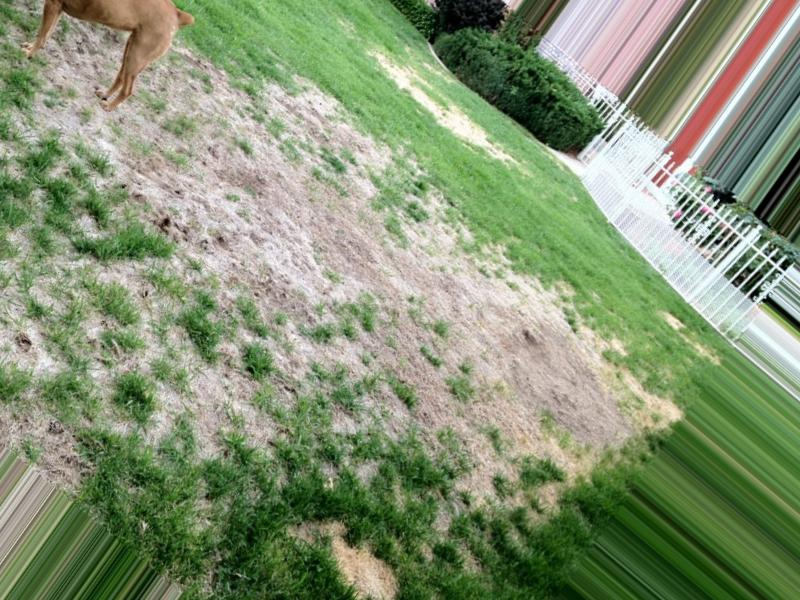patch: (253, 170, 384, 279), (447, 282, 522, 352), (519, 372, 593, 422), (162, 148, 222, 207), (187, 90, 250, 134), (70, 28, 123, 72), (277, 125, 316, 160), (116, 122, 142, 160)
